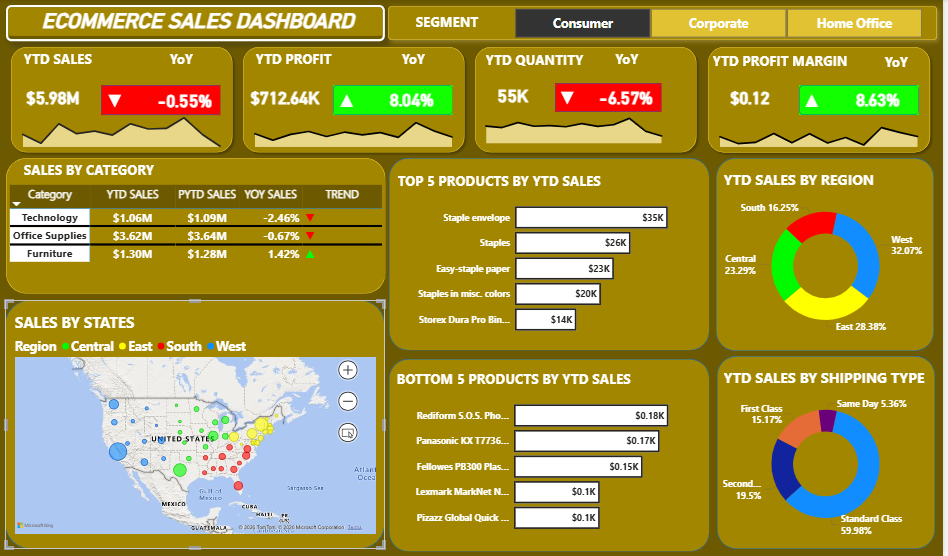

The page's visual inventory and layout, read from the dashboard file:
{"tool":"powerbi","page":{"name":"Page 1","canvas":[1700,1000],"ordinal":0},"visuals":[{"type":"shape","box":[698.9,0,1001.8,86],"z":0,"group":"g11"},{"type":"shape","box":[19,77.9,415,207],"z":0,"group":"g1"},{"type":"shape","box":[435,77.9,415,207],"z":0,"group":"g2"},{"type":"shape","box":[850.9,77.9,415,207],"z":0,"group":"g3"},{"type":"shape","box":[1268.8,77.9,416,207],"z":0,"group":"g4"},{"type":"shape","box":[1292.1,284.9,390.7,345.9],"z":0,"group":"g9"},{"type":"shape","box":[1293.9,639.8,390.7,345.9],"z":0,"group":"g10"},{"type":"textbox","title":"ECOMMERCE SALES DASHBOARD","box":[19.7,10.8,679.2,64.5],"z":1000},{"type":"group","id":"g1","title":"Group 1","box":[19,77.9,416,207],"z":1000},{"type":"textbox","box":[45.3,86.6,167.1,45.2],"z":1000,"group":"g1"},{"type":"textbox","box":[461.3,86.6,167.1,45.2],"z":1000,"group":"g2"},{"type":"textbox","box":[874.1,89.5,202.8,45.3],"z":1000,"group":"g3"},{"type":"textbox","box":[1280.9,91.1,288,50.5],"z":1000,"group":"g4"},{"type":"group","id":"g2","title":"Group 1","box":[435,77.9,416,207],"z":2000},{"type":"textbox","box":[1093.9,86.3,75.4,55.3],"z":2000,"group":"g3"},{"type":"textbox","box":[291.3,86.6,84.5,57.4],"z":2000,"group":"g1"},{"type":"textbox","box":[707.3,86.6,84.5,57.4],"z":2000,"group":"g2"},{"type":"textbox","box":[1572.7,92.8,84.7,57.4],"z":2000,"group":"g4"},{"type":"group","id":"g3","title":"Group 1","box":[850.9,77.9,416,207],"z":3000},{"type":"areaChart","fields":{"Y":["Sum(ecommerce_data.order_quantity)"],"Category":["date.month"]},"box":[862.6,193.5,346.9,70.4],"z":3000,"group":"g3"},{"type":"areaChart","fields":{"Y":["Sum(ecommerce_data.sales_per_order)"],"Category":["date.month"]},"box":[32.1,197.9,388.7,73.1],"z":3000,"group":"g1"},{"type":"areaChart","fields":{"Y":["Sum(ecommerce_data.profit_per_order)"],"Category":["date.month"]},"box":[448.1,197.9,388.7,73.1],"z":3000,"group":"g2"},{"type":"areaChart","fields":{"Y":["ecommerce_data.PROFIT MARGIN"],"Category":["date.month"]},"box":[1282,197.9,389.6,73.1],"z":3000,"group":"g4"},{"type":"group","id":"g4","title":"Group 1","box":[1268.8,77.9,416,207],"z":4000},{"type":"card","fields":{"Values":["ecommerce_data.YTD QUANTITY"]},"box":[862.6,141.6,127.4,62],"z":4000,"group":"g3"},{"type":"card","fields":{"Values":["ecommerce_data.YTD SALES"]},"box":[32.1,144,142.7,64.4],"z":4000,"group":"g1"},{"type":"card","fields":{"Values":["ecommerce_data.YTD PROFIT"]},"box":[448.1,144,142.7,64.4],"z":4000,"group":"g2"},{"type":"card","fields":{"Values":["ecommerce_data.YTM PROFIT MARGIN"]},"box":[1282,144,143.1,64.4],"z":4000,"group":"g4"},{"type":"shape","box":[1003.4,151.6,191.1,52],"z":5000,"group":"g3"},{"type":"shape","box":[189.9,154.4,214.1,53.9],"z":5000,"group":"g1"},{"type":"shape","box":[605.9,154.4,214.1,53.9],"z":5000,"group":"g2"},{"type":"shape","box":[1440.1,154.5,214.6,53.9],"z":5000,"group":"g4"},{"type":"group","id":"g5","title":"Group 3","box":[19,284.9,680,243.1],"z":5000},{"type":"shape","box":[19,284.9,680,243.1],"z":5000,"group":"g5"},{"type":"card","fields":{"Values":["ecommerce_data.YOY QUANTITY"]},"box":[1069.2,153.2,120.7,45.3],"z":6000,"group":"g3"},{"type":"card","fields":{"Values":["ecommerce_data.YOY PROFIT"]},"box":[679.5,156,135.2,47],"z":6000,"group":"g2"},{"type":"card","fields":{"Values":["ecommerce_data.YOY PROFIT MARGIN"]},"box":[1513.9,156,135.5,47],"z":6000,"group":"g4"},{"type":"card","fields":{"Values":["ecommerce_data.YOY SALES"]},"box":[278.1,159.7,120.2,41.7],"z":6000,"group":"g1"},{"type":"pivotTable","fields":{"Rows":["ecommerce_data.category_name"],"Values":["ecommerce_data.YTD SALES","ecommerce_data.PYTD SALES","ecommerce_data.YOY SALES","ecommerce_data.SALES ICON"]},"box":[20.9,328.6,678.1,172.8],"z":6000,"group":"g5"},{"type":"shape","box":[18.1,540.2,680.7,445.8],"z":6000,"group":"g6"},{"type":"map","title":"SALES BY STATES","fields":{"Y":["us_state_long_lat_codes.latitude"],"X":["us_state_long_lat_codes.longitude"],"Size":["ecommerce_data.YTD SALES"],"Series":["ecommerce_data.customer_region"]},"box":[30.1,562.3,656.6,401.6],"z":6001,"group":"g6"},{"type":"shape","box":[706.8,285.1,574.3,345],"z":6002,"group":"g7"},{"type":"shape","box":[706.8,644.6,574.3,345.4],"z":6003,"group":"g8"},{"type":"clusteredBarChart","title":"TOP 5 PRODUCTS BY YTD SALES","fields":{"Category":["ecommerce_data.product_name"],"Y":["ecommerce_data.YTD SALES"]},"box":[718.3,307.8,551,310.1],"z":6004,"group":"g7"},{"type":"group","id":"g6","title":"Group 4","box":[18.1,540.2,680.7,445.8],"z":6005},{"type":"clusteredBarChart","title":"BOTTOM 5 PRODUCTS BY YTD SALES","fields":{"Category":["ecommerce_data.product_name"],"Y":["ecommerce_data.YTD SALES"]},"box":[716.5,661.7,552,310.8],"z":6006,"group":"g8"},{"type":"group","id":"g7","title":"Group 5","box":[706.8,285.1,574.3,345],"z":6007},{"type":"group","id":"g8","title":"Group 6","box":[706.8,644.6,574.3,345.4],"z":6008},{"type":"donutChart","title":"YTD SALES BY REGION","fields":{"Category":["ecommerce_data.customer_region"],"Y":["ecommerce_data.YTD SALES"]},"box":[1301.5,307.1,374.7,310.8],"z":6011,"group":"g9"},{"type":"donutChart","title":"YTD SALES BY SHIPPING TYPE","fields":{"Y":["ecommerce_data.YTD SALES"],"Category":["ecommerce_data.shipping_type"]},"box":[1301.5,661.7,374.7,310.8],"z":6012,"group":"g10"},{"type":"slicer","fields":{"Values":["ecommerce_data.customer_segment"]},"box":[913.2,10.8,772.2,64.6],"z":6013,"group":"g11"},{"type":"textbox","box":[755.9,19.7,142.3,44.9],"z":6014,"group":"g11"},{"type":"group","id":"g9","title":"Group 7","box":[1292.1,284.9,390.7,345.9],"z":6015},{"type":"group","id":"g10","title":"Group 8","box":[1293.9,639.8,390.7,345.9],"z":6016},{"type":"group","id":"g11","title":"Group 9","box":[698.9,0,1001.8,86],"z":6017},{"type":"card","fields":{"Values":["ecommerce_data.QUANTITY ICON"]},"box":[990,158.3,68.7,38.5],"z":7000,"group":"g3"},{"type":"card","fields":{"Values":["ecommerce_data.SALES ICON"]},"box":[174.9,161.4,77,40],"z":7000,"group":"g1"},{"type":"card","fields":{"Values":["ecommerce_data.PROFIT ICON"]},"box":[590.9,161.4,77,40],"z":7000,"group":"g2"},{"type":"card","fields":{"Values":["ecommerce_data.PROFIT MARIGN ICON"]},"box":[1425,161.4,77.2,40],"z":7000,"group":"g4"},{"type":"textbox","box":[45.6,284.9,269.7,43.7],"z":7000,"group":"g5"}]}

Visuals, with their boxes in screenshot pixels (x1, y1, x2, y2), scaled from the page's 1700x1000 canvas onto the 948x556 screenshot:
shape: BBox(390, 0, 947, 48)
shape: BBox(11, 43, 242, 158)
shape: BBox(243, 43, 474, 158)
shape: BBox(475, 43, 706, 158)
shape: BBox(708, 43, 940, 158)
shape: BBox(721, 158, 938, 351)
shape: BBox(722, 356, 939, 548)
"ECOMMERCE SALES DASHBOARD" textbox: BBox(11, 6, 390, 42)
"Group 1" group: BBox(11, 43, 243, 158)
textbox: BBox(25, 48, 118, 73)
textbox: BBox(257, 48, 350, 73)
textbox: BBox(487, 50, 601, 75)
textbox: BBox(714, 51, 875, 79)
"Group 1" group: BBox(243, 43, 475, 158)
textbox: BBox(610, 48, 652, 79)
textbox: BBox(162, 48, 210, 80)
textbox: BBox(394, 48, 442, 80)
textbox: BBox(877, 52, 924, 84)
"Group 1" group: BBox(475, 43, 706, 158)
areaChart - Sum(ecommerce_data.order_quantity) x date.month: BBox(481, 108, 674, 147)
areaChart - Sum(ecommerce_data.sales_per_order) x date.month: BBox(18, 110, 235, 151)
areaChart - Sum(ecommerce_data.profit_per_order) x date.month: BBox(250, 110, 467, 151)
areaChart - ecommerce_data.PROFIT MARGIN x date.month: BBox(715, 110, 932, 151)
"Group 1" group: BBox(708, 43, 940, 158)
card - ecommerce_data.YTD QUANTITY: BBox(481, 79, 552, 113)
card - ecommerce_data.YTD SALES: BBox(18, 80, 97, 116)
card - ecommerce_data.YTD PROFIT: BBox(250, 80, 329, 116)
card - ecommerce_data.YTM PROFIT MARGIN: BBox(715, 80, 795, 116)
shape: BBox(560, 84, 666, 113)
shape: BBox(106, 86, 225, 116)
shape: BBox(338, 86, 457, 116)
shape: BBox(803, 86, 923, 116)
"Group 3" group: BBox(11, 158, 390, 294)
shape: BBox(11, 158, 390, 294)
card - ecommerce_data.YOY QUANTITY: BBox(596, 85, 664, 110)
card - ecommerce_data.YOY PROFIT: BBox(379, 87, 454, 113)
card - ecommerce_data.YOY PROFIT MARGIN: BBox(844, 87, 920, 113)
card - ecommerce_data.YOY SALES: BBox(155, 89, 222, 112)
pivotTable - ecommerce_data.category_name x ecommerce_data.YTD SALES: BBox(12, 183, 390, 279)
shape: BBox(10, 300, 390, 548)
"SALES BY STATES" map: BBox(17, 313, 383, 536)
shape: BBox(394, 159, 714, 350)
shape: BBox(394, 358, 714, 550)
"TOP 5 PRODUCTS BY YTD SALES" clusteredBarChart: BBox(401, 171, 708, 344)
"Group 4" group: BBox(10, 300, 390, 548)
"BOTTOM 5 PRODUCTS BY YTD SALES" clusteredBarChart: BBox(400, 368, 707, 541)
"Group 5" group: BBox(394, 159, 714, 350)
"Group 6" group: BBox(394, 358, 714, 550)
"YTD SALES BY REGION" donutChart: BBox(726, 171, 935, 344)
"YTD SALES BY SHIPPING TYPE" donutChart: BBox(726, 368, 935, 541)
slicer - ecommerce_data.customer_segment: BBox(509, 6, 940, 42)
textbox: BBox(422, 11, 501, 36)
"Group 7" group: BBox(721, 158, 938, 351)
"Group 8" group: BBox(722, 356, 939, 548)
"Group 9" group: BBox(390, 0, 947, 48)
card - ecommerce_data.QUANTITY ICON: BBox(552, 88, 590, 109)
card - ecommerce_data.SALES ICON: BBox(98, 90, 140, 112)
card - ecommerce_data.PROFIT ICON: BBox(330, 90, 372, 112)
card - ecommerce_data.PROFIT MARIGN ICON: BBox(795, 90, 838, 112)
textbox: BBox(25, 158, 176, 183)
